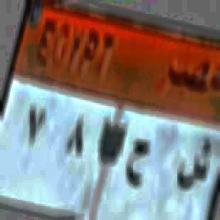7: (25, 104, 46, 148)
7aa: (126, 134, 150, 196)
8: (66, 116, 85, 160)
sheen: (176, 137, 212, 204)
